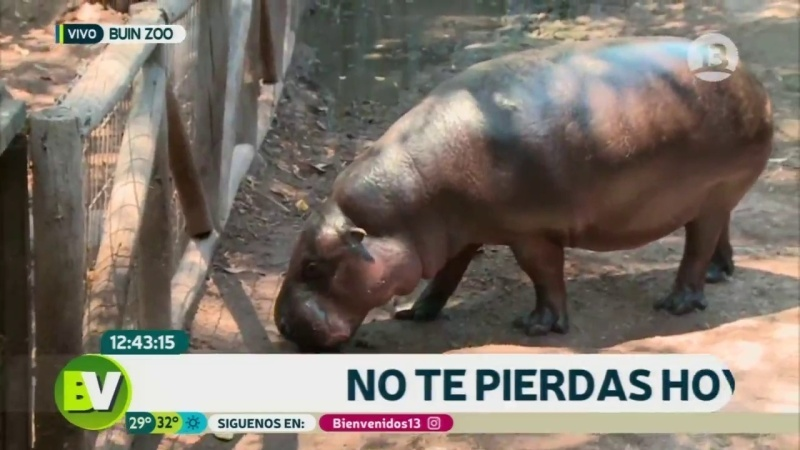hipopotamo: (247, 24, 778, 364)
